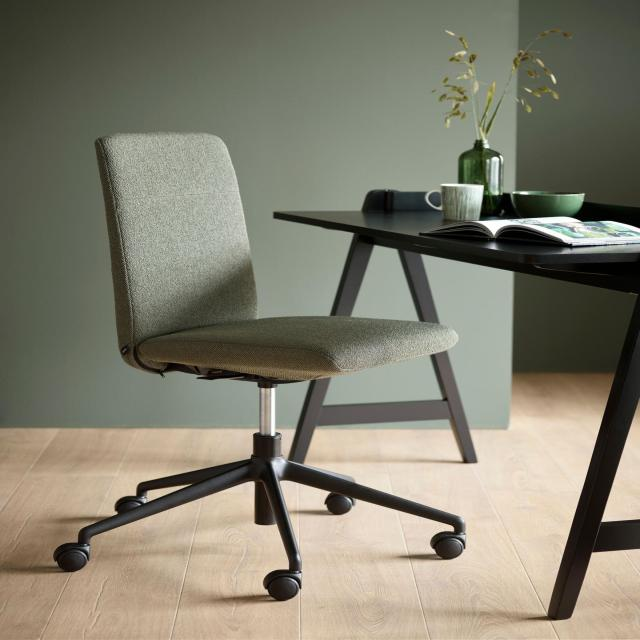chair: (52, 131, 478, 601)
